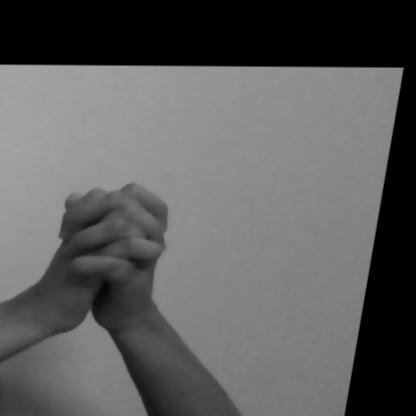prayer: (12, 162, 242, 367)
